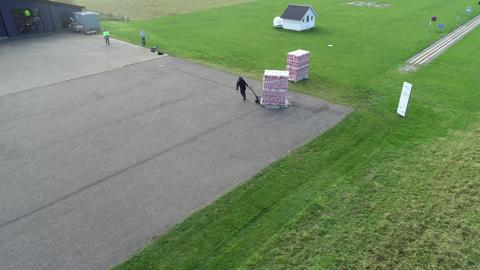RockwoolPallet: (259, 65, 288, 110)
